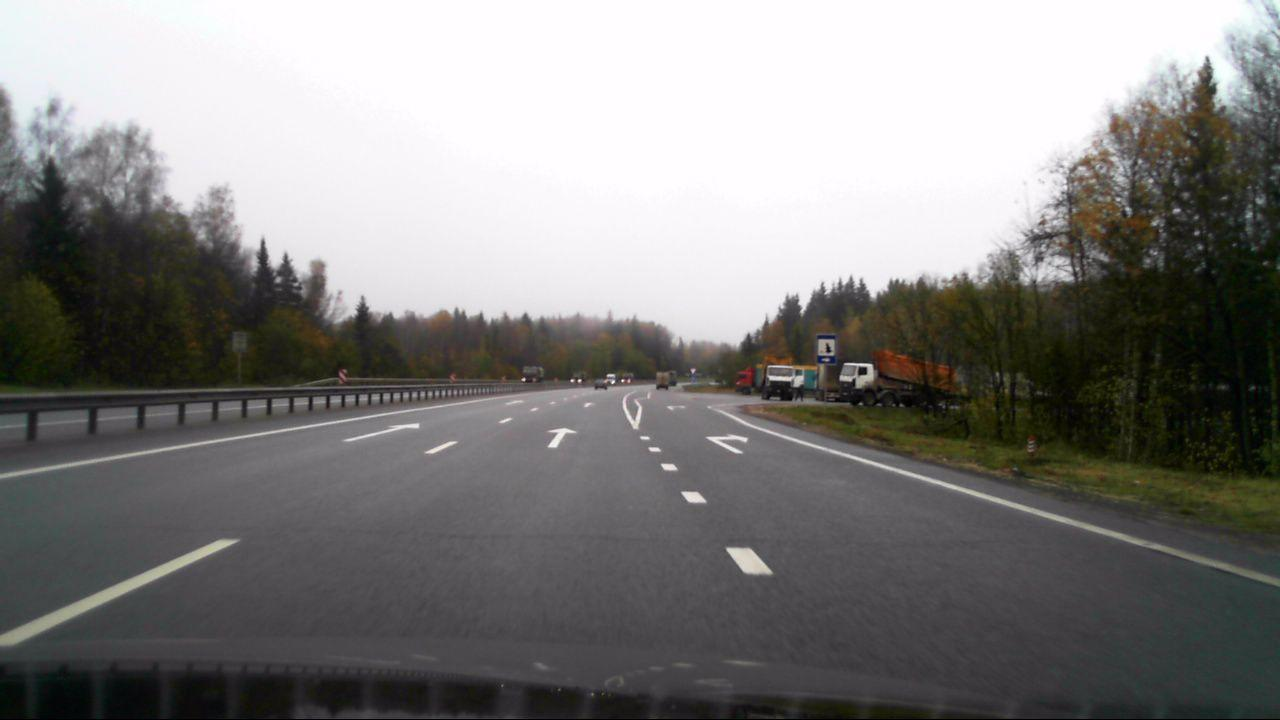7_11: (816, 333, 836, 365)
